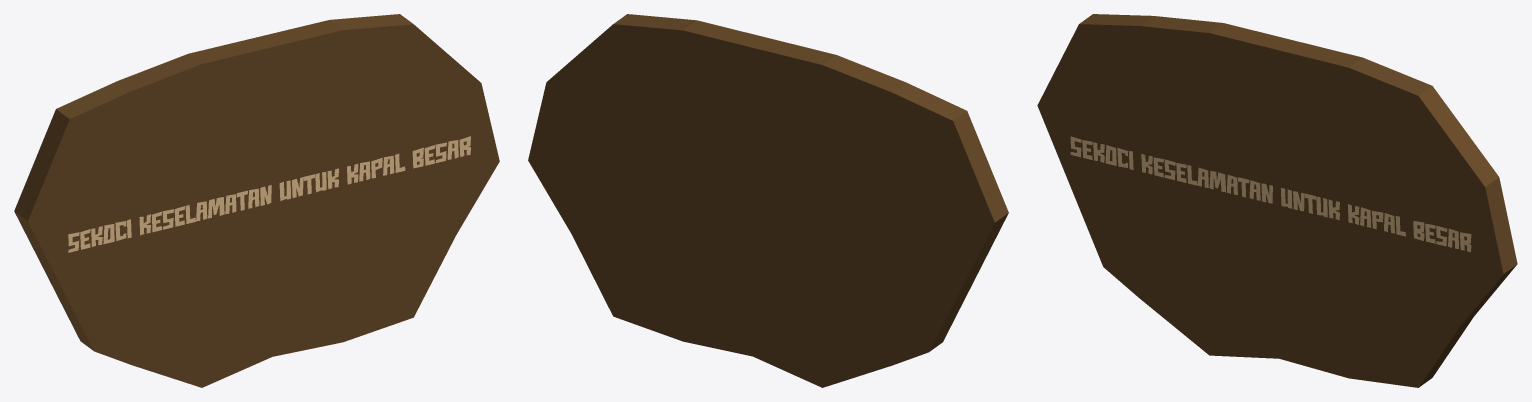
The model's file is ui_1_PerahuSekoci.fbx.
3 views of the same model, side by side, from view 1: azimuth 30°, elevation 25°; view 2: azimuth 150°, elevation 25°; view 3: azimuth 330°, elevation 25° (orthographic).
Visible parts, largest first — view 1: Cube.003, Text.002; view 2: Cube.003; view 3: Cube.003, Text.002.
Part boxes in pixels (bbox=[...]): Cube.003: bbox=[14, 14, 499, 387]; Text.002: bbox=[68, 136, 470, 252]; Cube.003: bbox=[528, 14, 1008, 387]; Cube.003: bbox=[1037, 14, 1517, 387]; Text.002: bbox=[1070, 136, 1471, 252].
Bounding box in the file's own units: 256 × 168 × 16.49.
